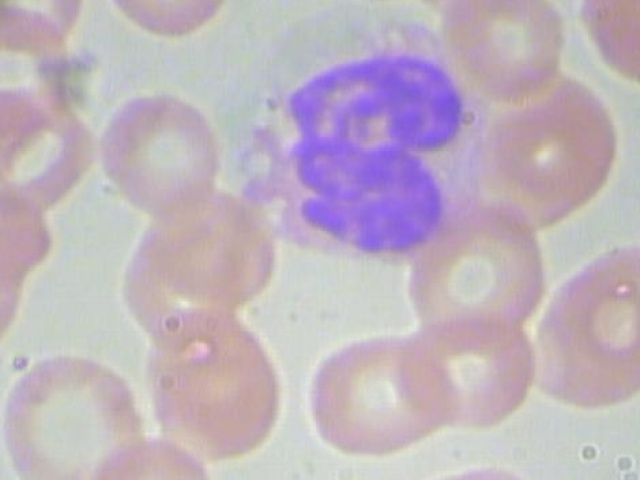RBC: (399, 192, 563, 353), (146, 314, 295, 464), (305, 330, 461, 469), (0, 340, 154, 480), (388, 315, 551, 436), (88, 83, 233, 211), (434, 0, 566, 104), (573, 0, 640, 98), (84, 434, 225, 480), (98, 0, 243, 44), (0, 182, 58, 289), (0, 0, 100, 51), (317, 0, 442, 4)
WBC: (222, 6, 502, 282)
